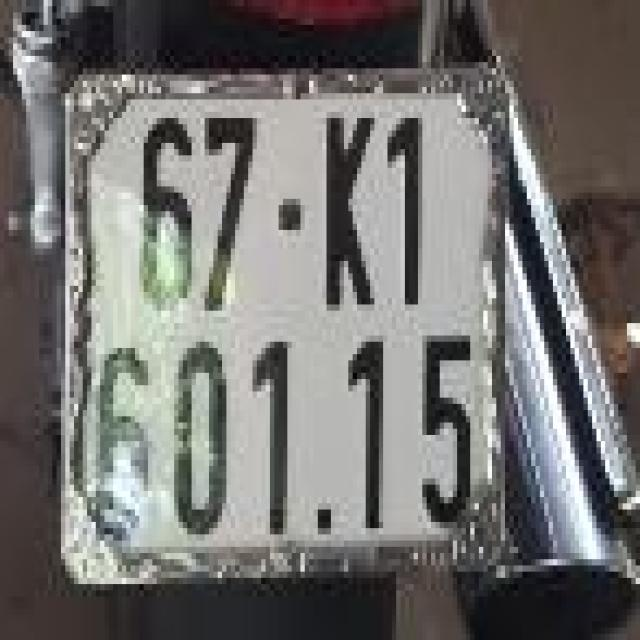0: (161, 338, 231, 538)
1: (337, 342, 394, 540), (248, 336, 305, 534), (386, 124, 434, 323)
5: (413, 330, 488, 534)
6: (85, 342, 154, 553), (128, 106, 194, 310)
7: (196, 103, 265, 320)
K: (309, 115, 388, 314)
